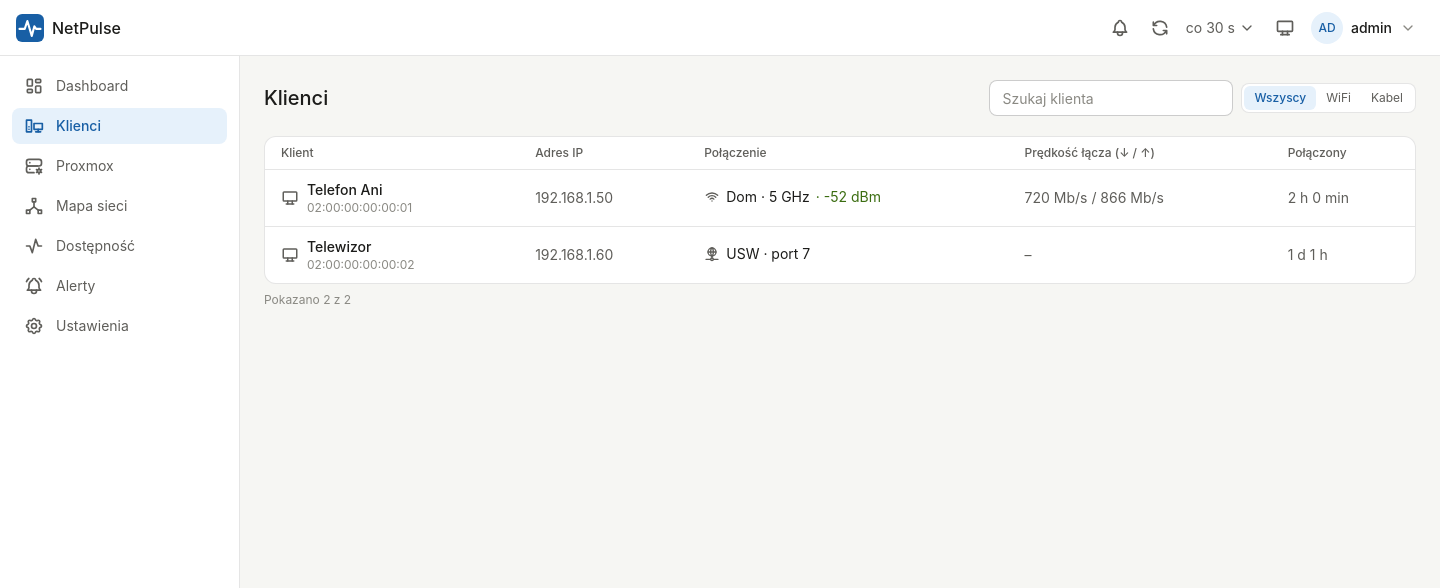
Test: strona klienta › z listy klientów prowadzi do szczegółów z sygnałem, obecnością i historią
Click the link "Telefon Ani".
click(345, 190)  # box [307,181,382,198]
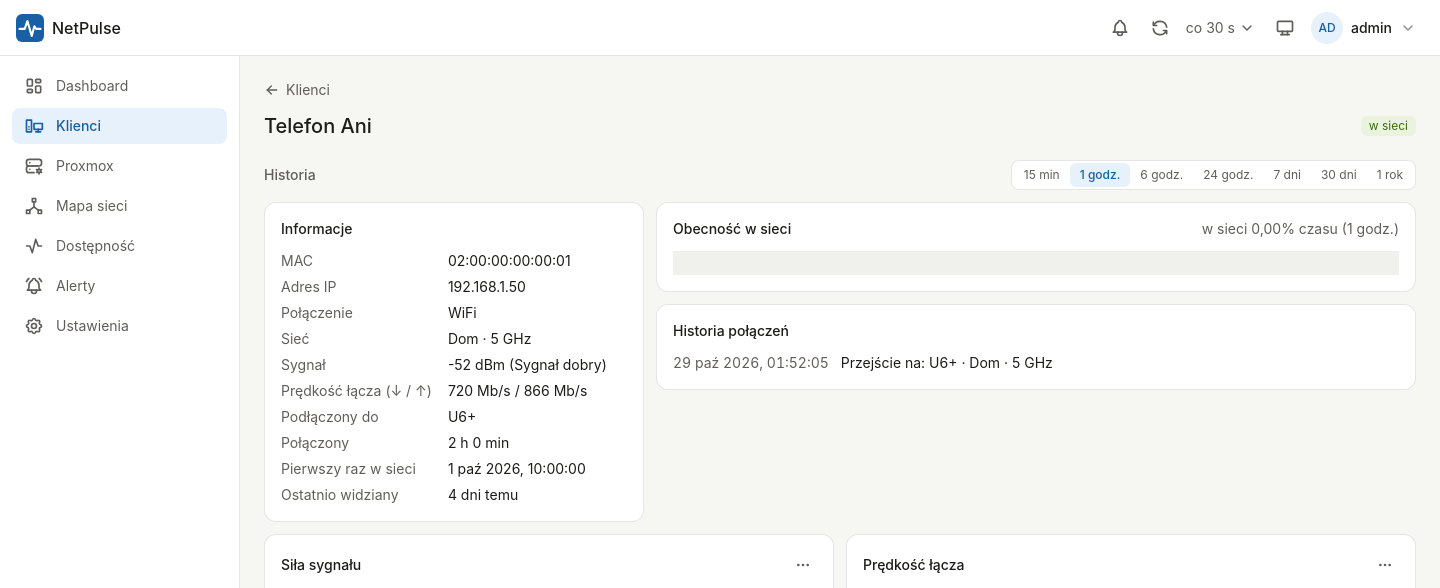
Expected: the heading "Telefon Ani" is shown, [264,112,372,140]
Expected: the text "w sieci" is shown, [1361,116,1416,136]
Expected: the text "-52 dBm (Sygnał dobry)" is shown, [448,355,627,375]
